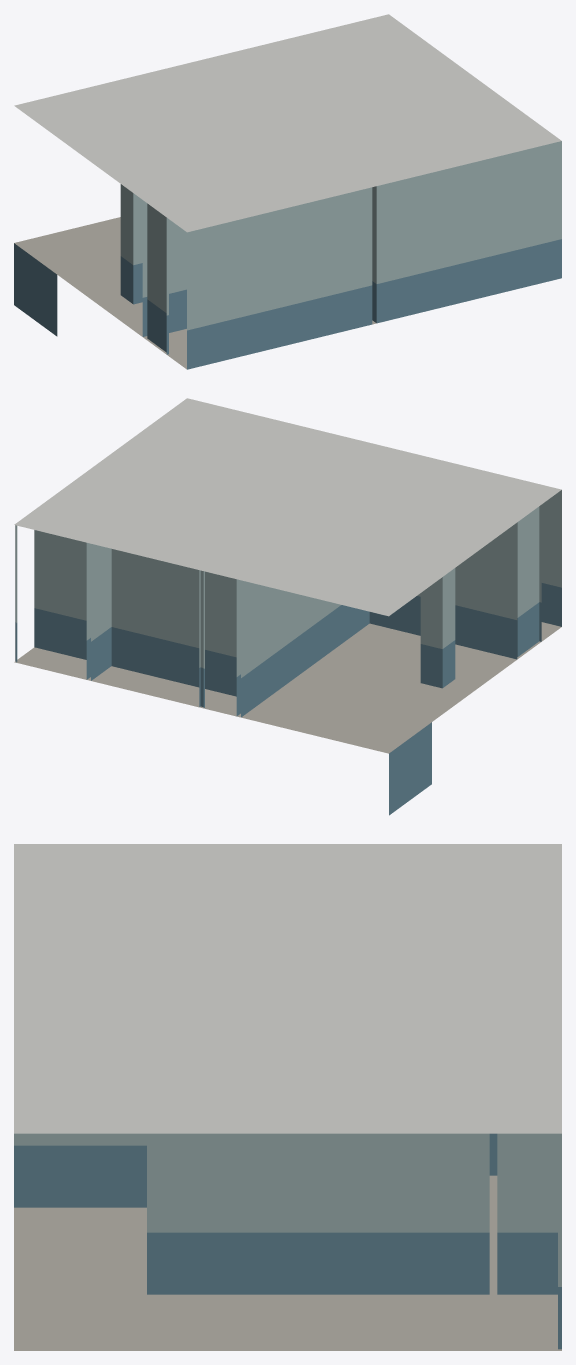
Rendered from chunk_2_4.glb.
3 renders of one model, top to bottom at view 1: azimuth 30°, elevation 25°; view 2: azimuth 150°, elevation 25°; view 3: azimuth 270°, elevation 25°, orthographic. The views are drawn at different scales.
Visible parts, largest first — view 1: chunk_2_4; view 2: chunk_2_4; view 3: chunk_2_4.
Part boxes in pixels (x1,y1,x2,y2): chunk_2_4: (14,14,561,369); chunk_2_4: (14,398,561,815); chunk_2_4: (14,844,561,1350).
Bounding box in the file's own units: 12 × 6.1 × 9.6.
